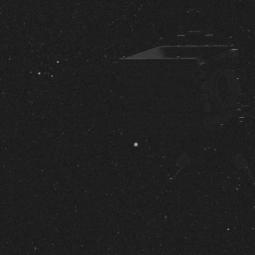proba_2: (96, 28, 255, 158)
